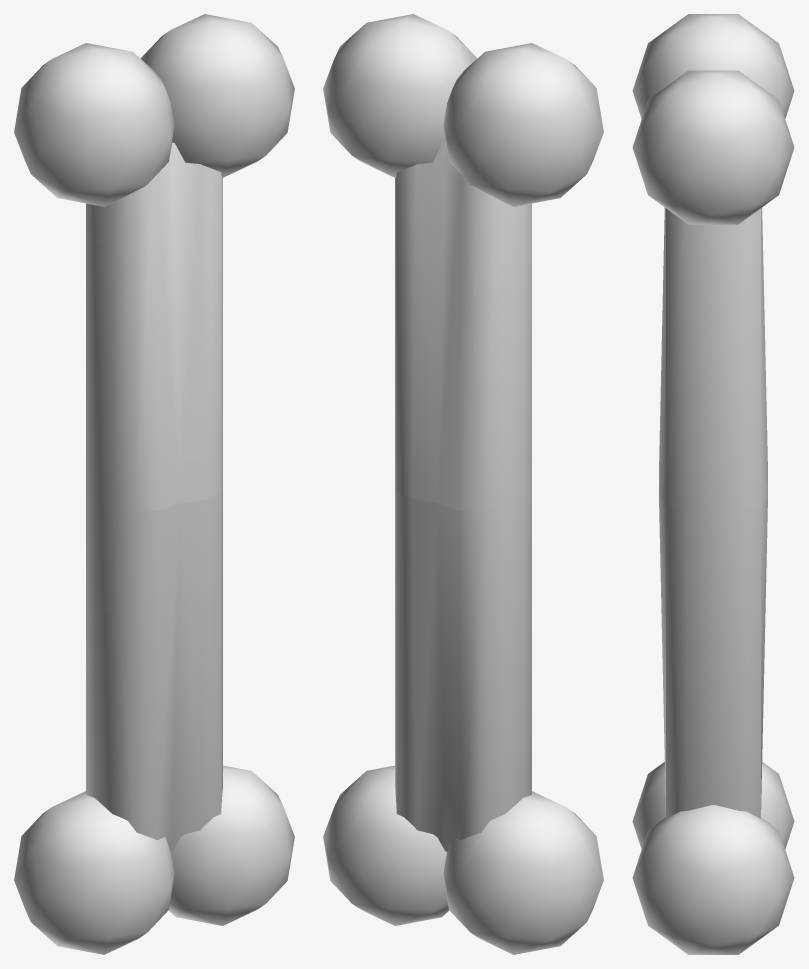
The model's file is bone.obj.
3 renders of one model, left to right at view 1: azimuth 30°, elevation 25°; view 2: azimuth 150°, elevation 25°; view 3: azimuth 270°, elevation 25°, orthographic. The views are drawn at different scales.
Visible parts, largest first — view 1: 円柱; view 2: 円柱; view 3: 円柱.
Boxes of the visible parts, left/top/right/bottom form: 円柱: left=14, top=14, right=294, bottom=954; 円柱: left=323, top=14, right=603, bottom=954; 円柱: left=632, top=14, right=794, bottom=954.
Size of the model in its own units: 0.5041 by 1.7 by 0.2837.
1 material, 1 textured.
